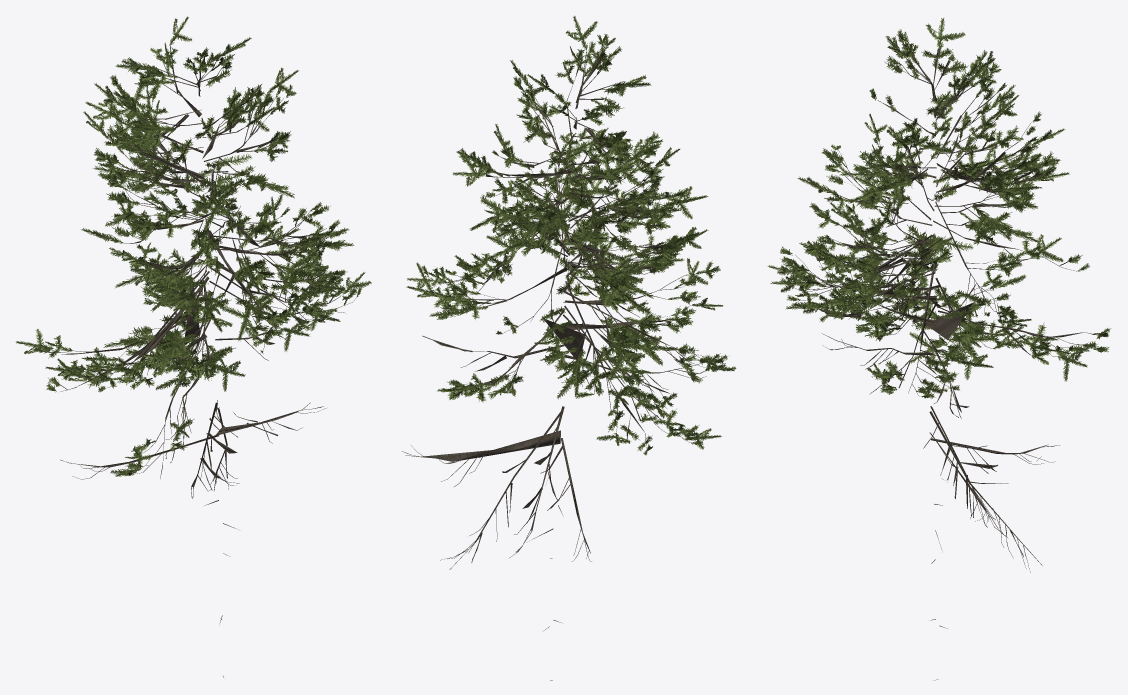
File: fir_tree_01-c-mirrored-lod1.glb
3 views of the same model, side by side, from view 1: azimuth 30°, elevation 25°; view 2: azimuth 150°, elevation 25°; view 3: azimuth 270°, elevation 25° (orthographic). The views are drawn at different scales.
Visible parts, largest first — view 1: fir_tree_01.c-mirrored.lod1.foliage, fir_tree_01.c-mirrored.lod1.bark; view 2: fir_tree_01.c-mirrored.lod1.foliage, fir_tree_01.c-mirrored.lod1.bark; view 3: fir_tree_01.c-mirrored.lod1.foliage, fir_tree_01.c-mirrored.lod1.bark.
Boxes of the visible parts, x1,y1,x2,y2 form: fir_tree_01.c-mirrored.lod1.foliage: [16, 16, 371, 476]; fir_tree_01.c-mirrored.lod1.bark: [47, 45, 356, 677]; fir_tree_01.c-mirrored.lod1.foliage: [406, 15, 736, 455]; fir_tree_01.c-mirrored.lod1.bark: [402, 48, 707, 680]; fir_tree_01.c-mirrored.lod1.foliage: [767, 18, 1111, 398]; fir_tree_01.c-mirrored.lod1.bark: [792, 43, 1097, 680].
Size of the model in its own units: 6.35 by 12.17 by 6.01.
Materials: 2 (2 with a texture image).
